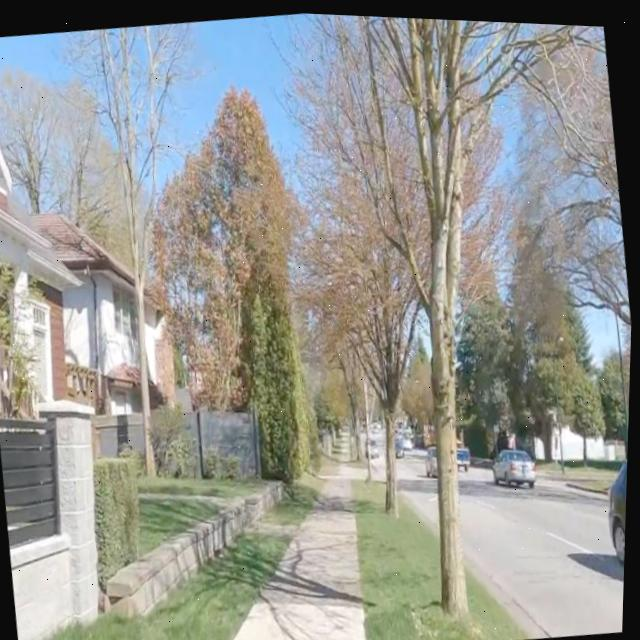Automobile: (610, 453, 630, 557), (495, 445, 536, 482), (428, 440, 438, 472), (459, 442, 471, 466)
Road: (463, 464, 627, 633), (402, 464, 438, 529)
Sidewalk: (235, 471, 370, 640)
